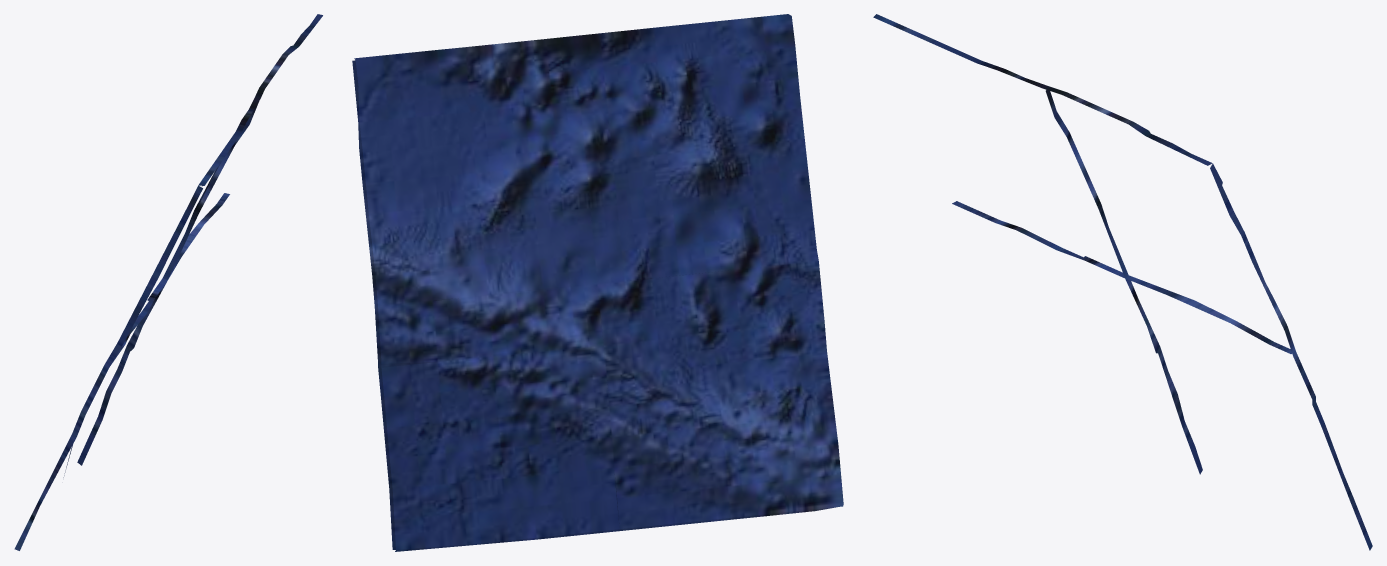
The picture shows the model from 3 angles, left to right: view 1: azimuth 30°, elevation 25°; view 2: azimuth 150°, elevation 25°; view 3: azimuth 270°, elevation 25°; orthographic projection. The views are drawn at different scales.
Size of the model in its own units: 299546 by 290338 by 291985.
Materials: 1 (1 with a texture image).
